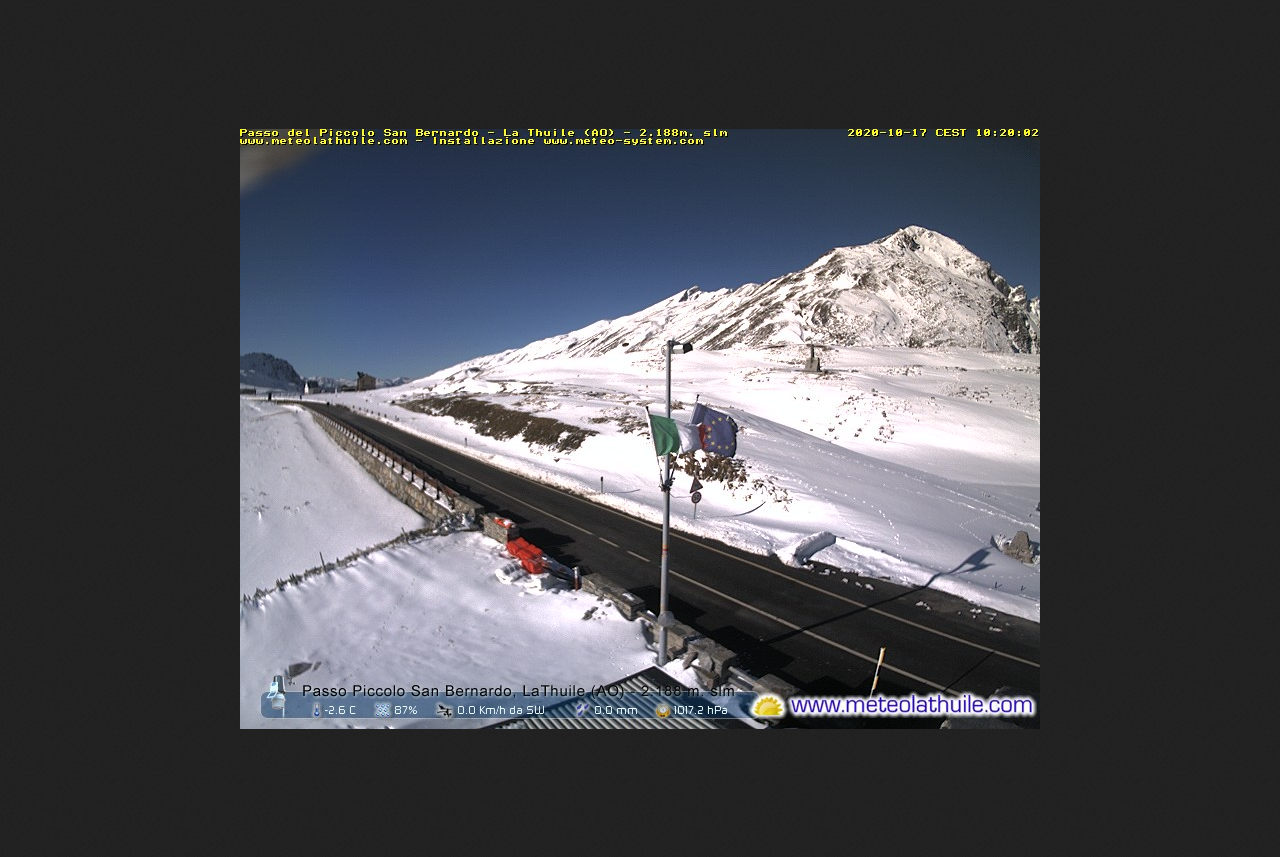yes: (682, 391, 751, 469), (637, 404, 713, 463)
